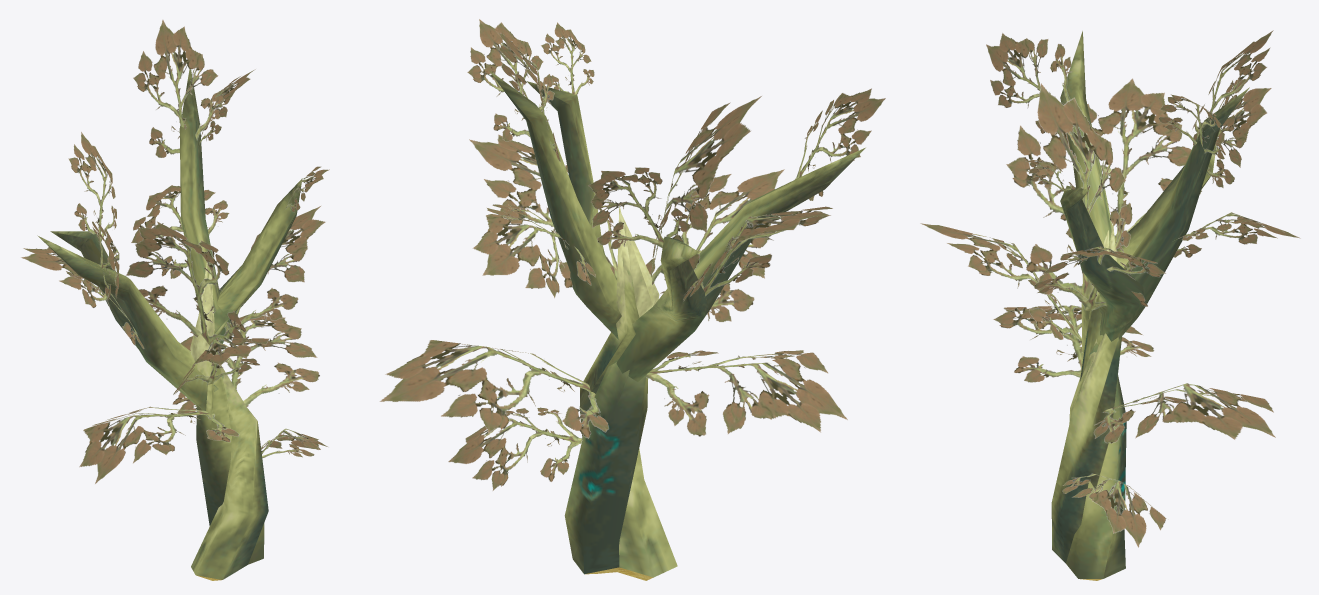
3 views of the same model, side by side, from view 1: azimuth 30°, elevation 25°; view 2: azimuth 150°, elevation 25°; view 3: azimuth 270°, elevation 25° (orthographic). The views are drawn at different scales.
Parts seen in each view (by area): view 1: Alpha, Solid; view 2: Alpha, Solid; view 3: Alpha, Solid.
Part boxes in pixels (x1=…): Alpha: x1=21, y1=19, x2=329, y2=483; Solid: x1=37, y1=69, x2=302, y2=580; Alpha: x1=379, y1=19, x2=885, y2=491; Solid: x1=488, y1=70, x2=865, y2=580; Alpha: x1=920, y1=30, x2=1300, y2=547; Solid: x1=1051, y1=31, x2=1249, y2=580.
Bounding box in the file's own units: 254 × 355 × 224.
2 materials, 2 textured.
